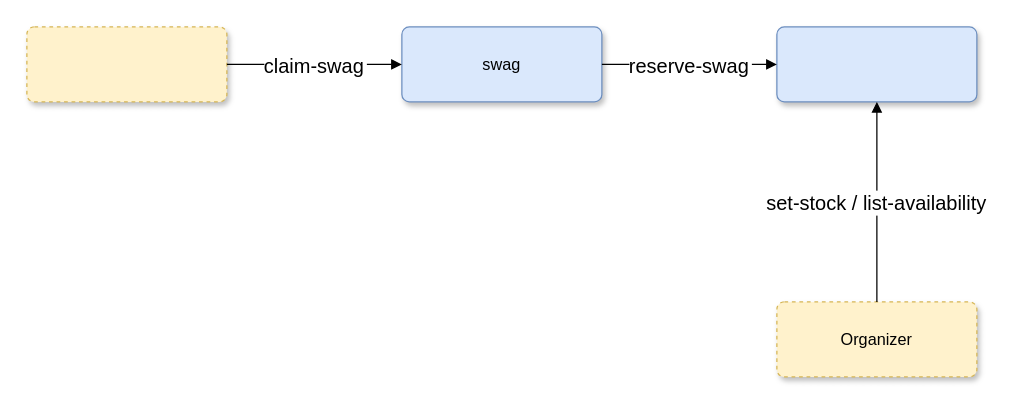
Some shapes in this 1010 by 408 pixel diagram are drawn without their labels. Here are the shapes that lost their labels. From the top down, the centre of each, then its label:
point (127, 66): Attendee
point (877, 66): inventory
